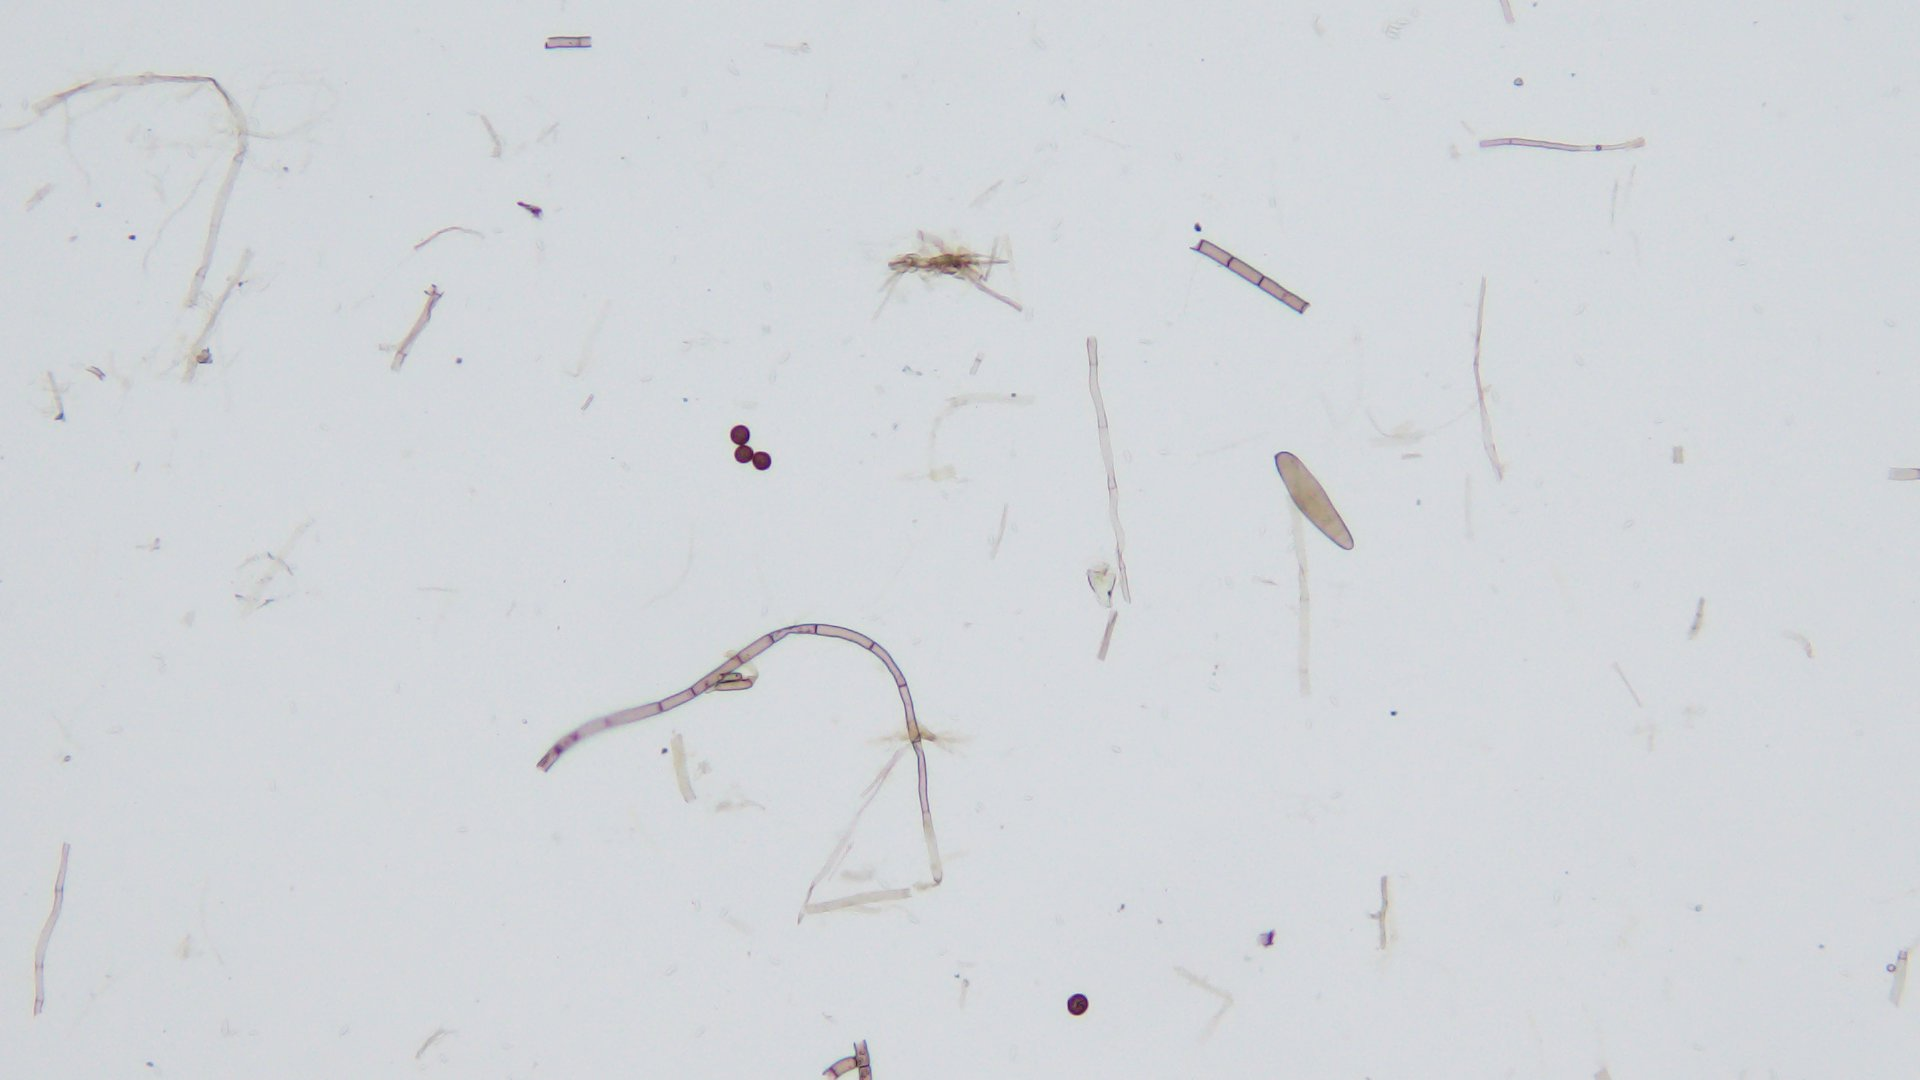dbb_spore: (1270, 450, 1357, 551), (1067, 992, 1091, 1015)
shs_spore: (729, 425, 752, 444), (731, 446, 754, 464), (752, 451, 771, 471)
